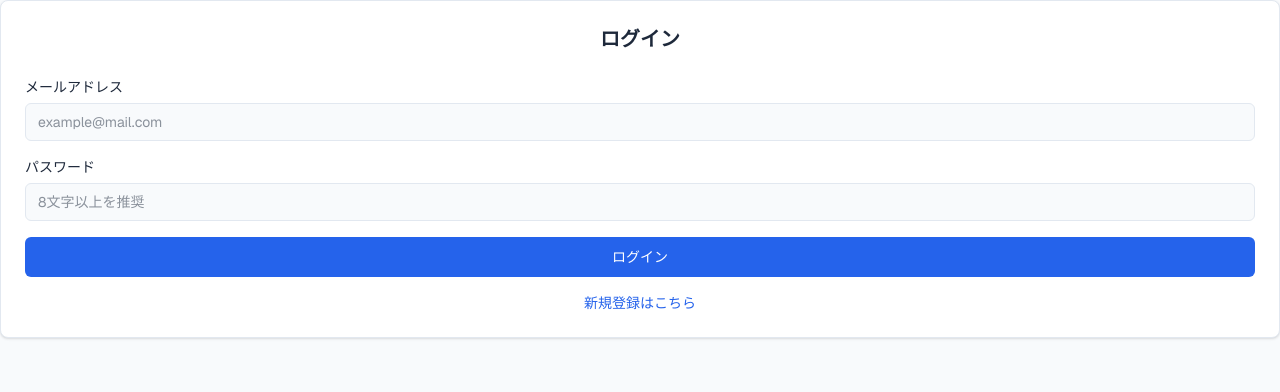
login › ログインに失敗した場合、エラーメッセージが表示される
Type "test@example.com" into the field with placeholder "example@mail.com" at x=640, y=122, box [25,103,1255,141]
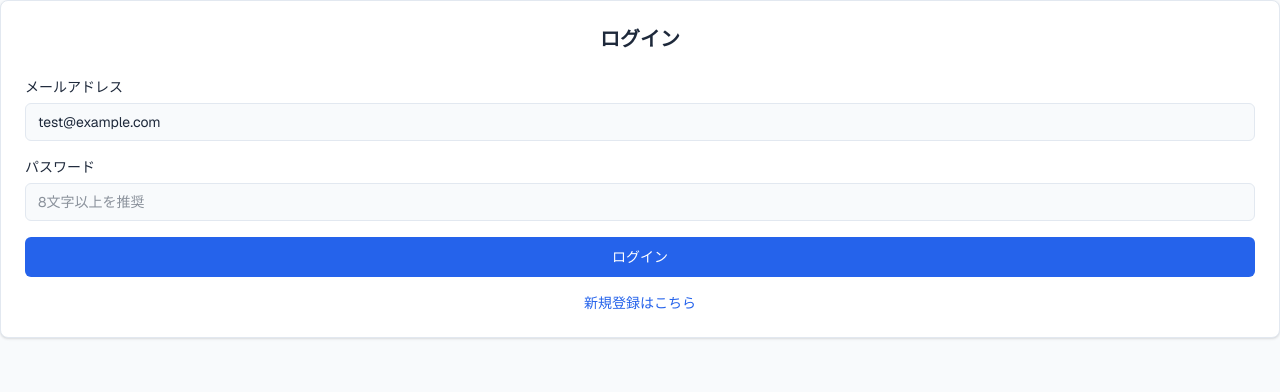
Type "123456" into the password field with placeholder "8文字以上を推奨" at x=640, y=202, box [25,183,1255,221]
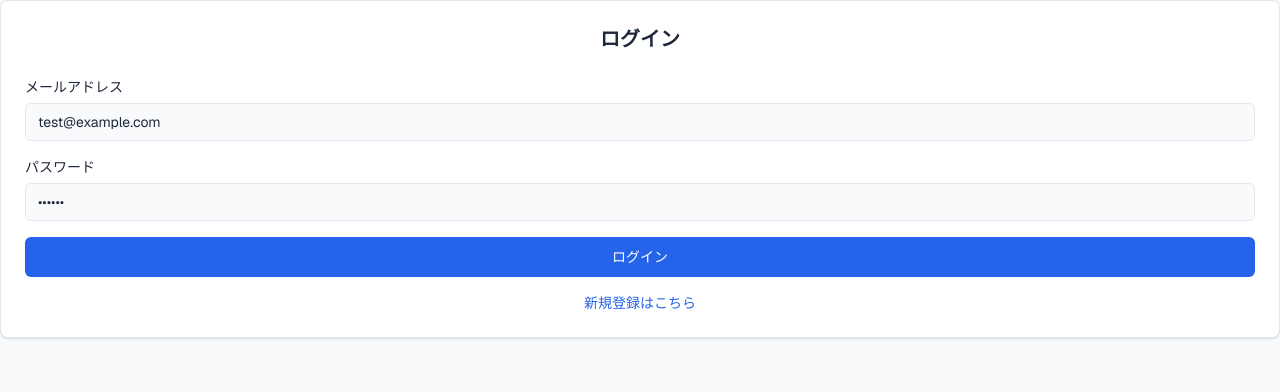
Click the button "ログイン" at x=640, y=257, box [25,237,1255,277]
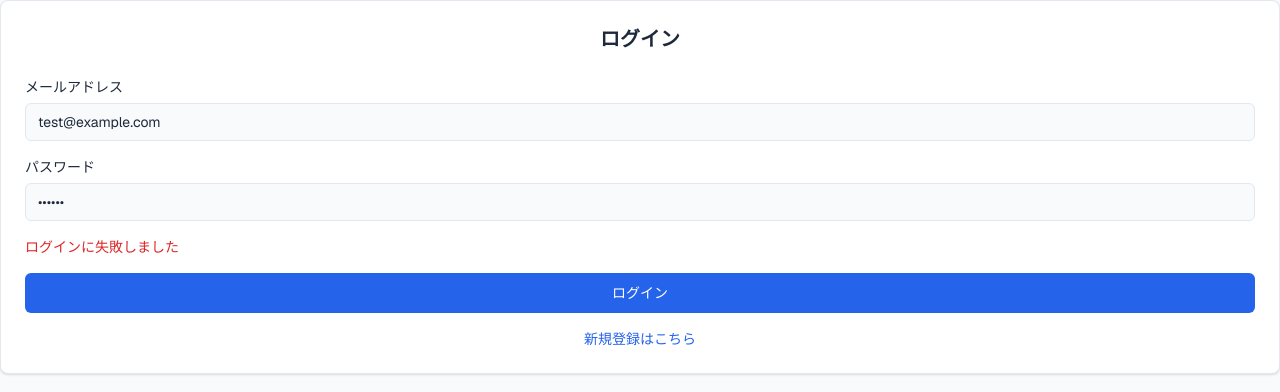
Check: the text "ログインに失敗しました" is shown, box [25,238,179,256]
